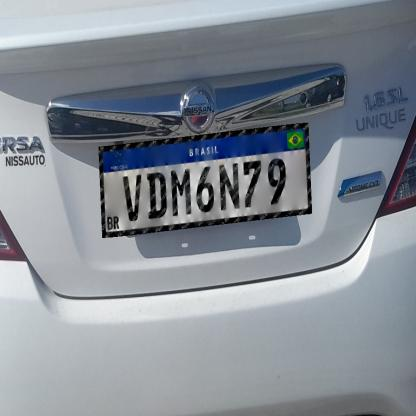PlacaM: (99, 123, 312, 238)
